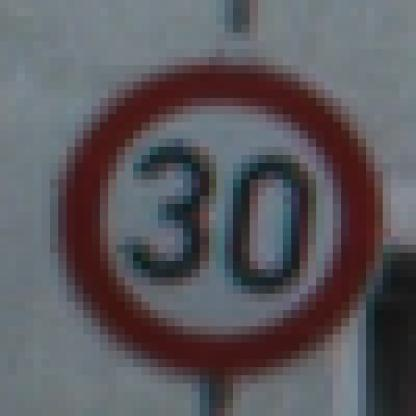Speed Limit 30: (64, 64, 378, 372)
